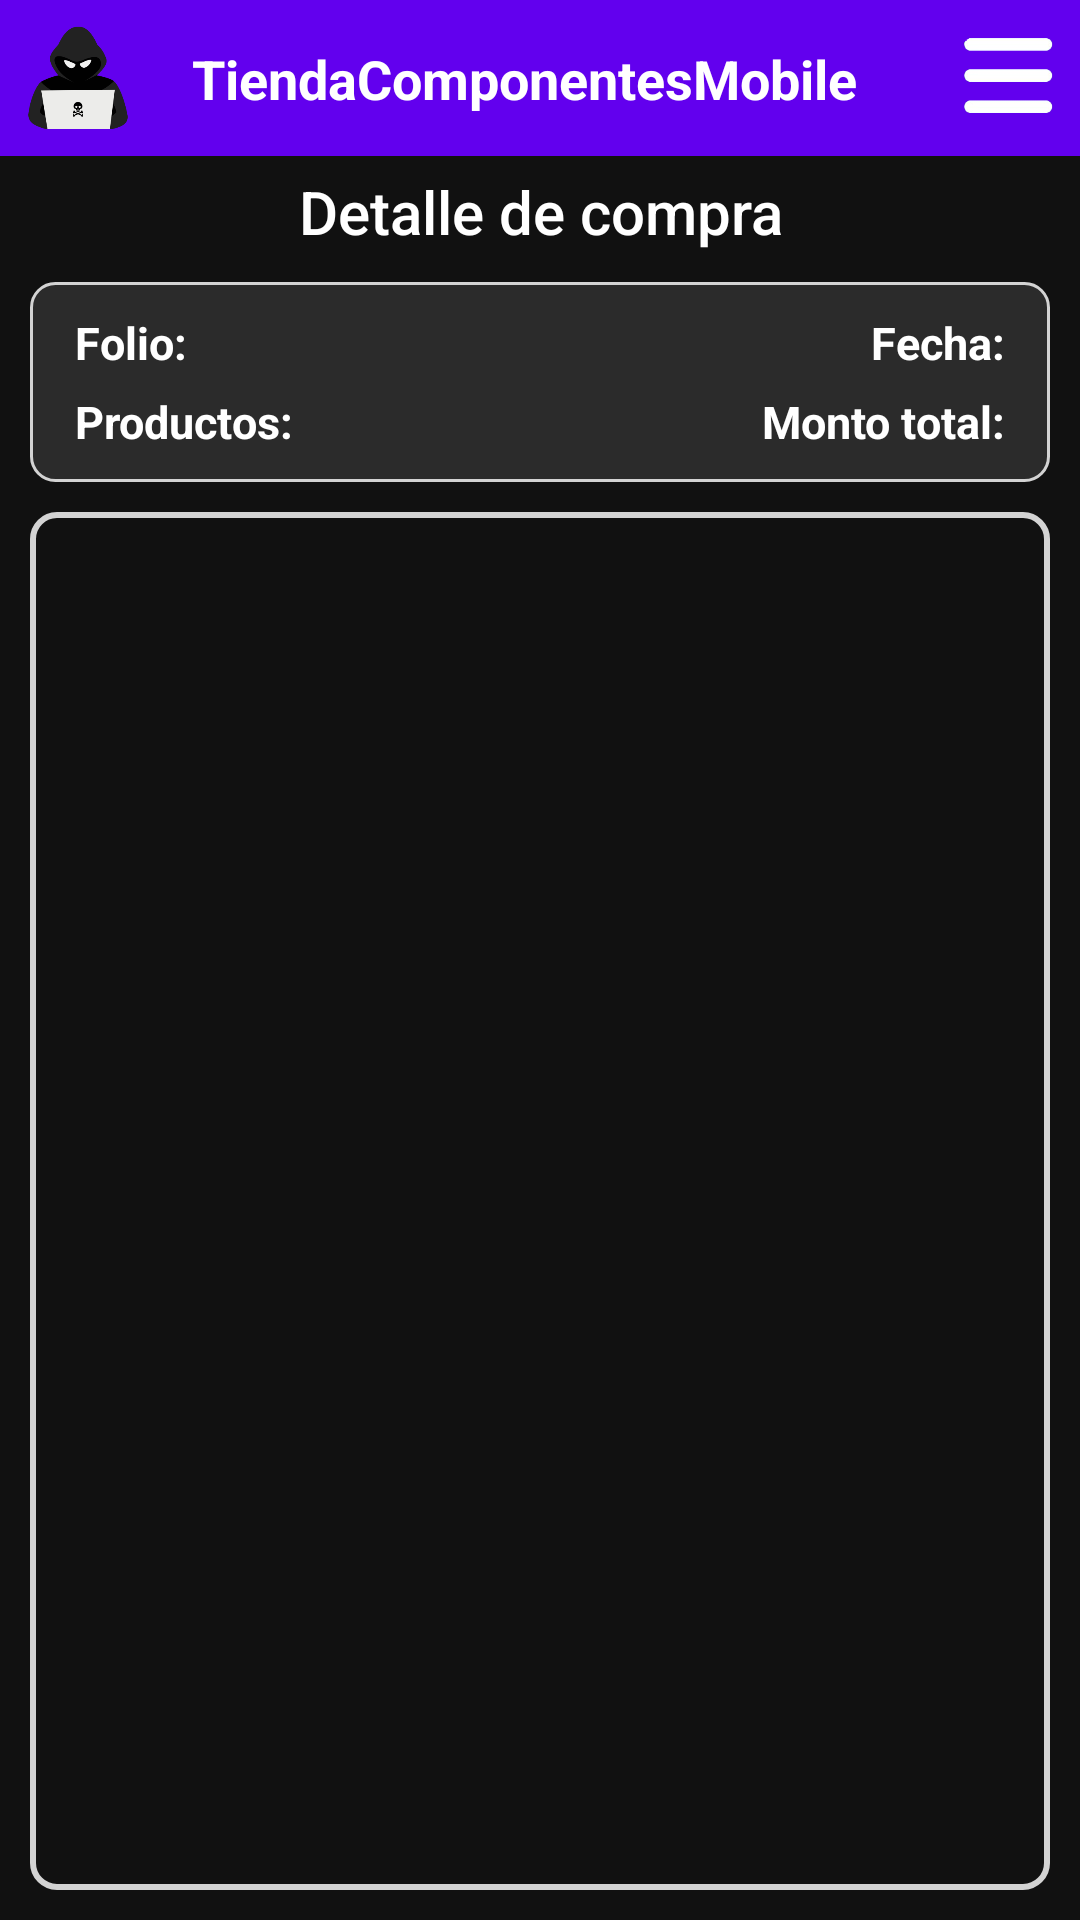

Named icons in this screenshot (1080 x 1920) and their centers, (x=x, y=y):
hamburguesa: (x=1008, y=75)
